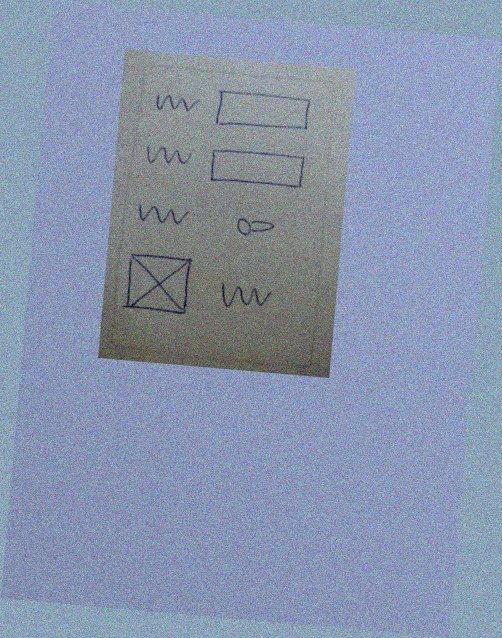image: (120, 249, 199, 321)
switch: (228, 212, 284, 241)
text: (212, 276, 280, 317), (140, 141, 198, 174), (133, 200, 195, 230), (151, 91, 202, 116)
text_input: (209, 84, 317, 138), (205, 144, 313, 195)
